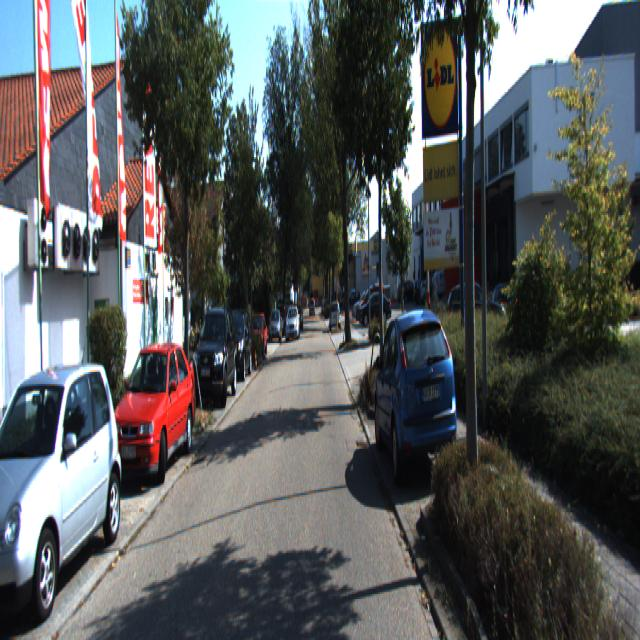Car: (0, 354, 125, 637), (373, 301, 461, 489), (111, 338, 197, 487), (193, 307, 238, 412), (220, 310, 252, 384), (358, 290, 392, 325), (246, 312, 267, 359), (285, 306, 300, 340), (330, 300, 341, 332)
DontCare: (447, 269, 513, 320), (390, 270, 449, 290), (268, 298, 283, 346), (346, 284, 358, 313), (307, 292, 317, 320)
